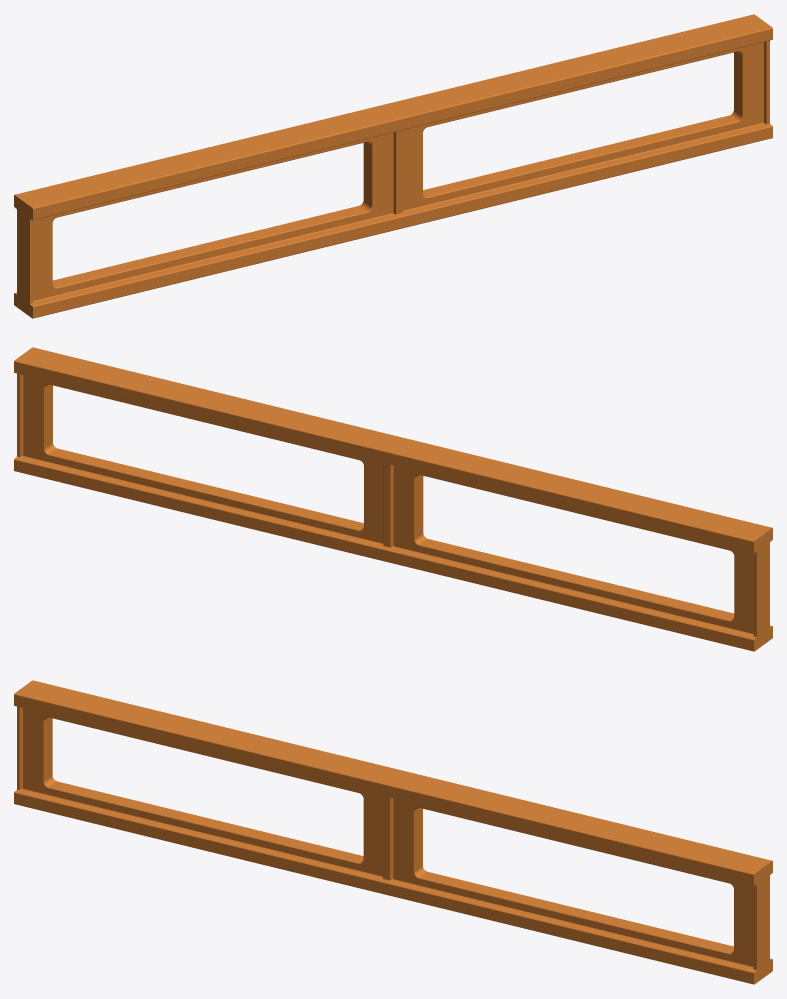
The model's file is structure_beam_center_b03.glb.
The picture shows the model from 3 angles, top to bottom: view 1: azimuth 30°, elevation 25°; view 2: azimuth 150°, elevation 25°; view 3: azimuth 330°, elevation 25°; orthographic projection.
Size of the model in its own units: 4 by 0.5713 by 0.1774.
